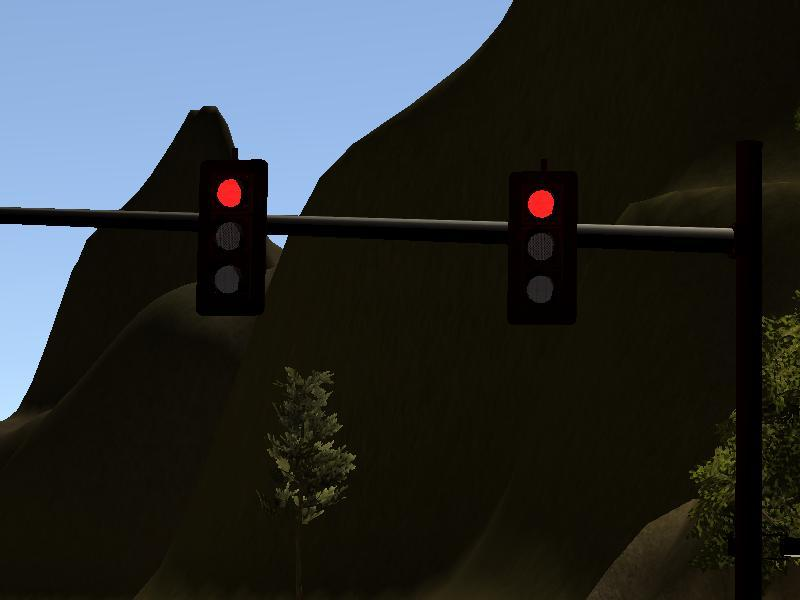Red: (506, 170, 579, 324), (196, 161, 269, 315)
